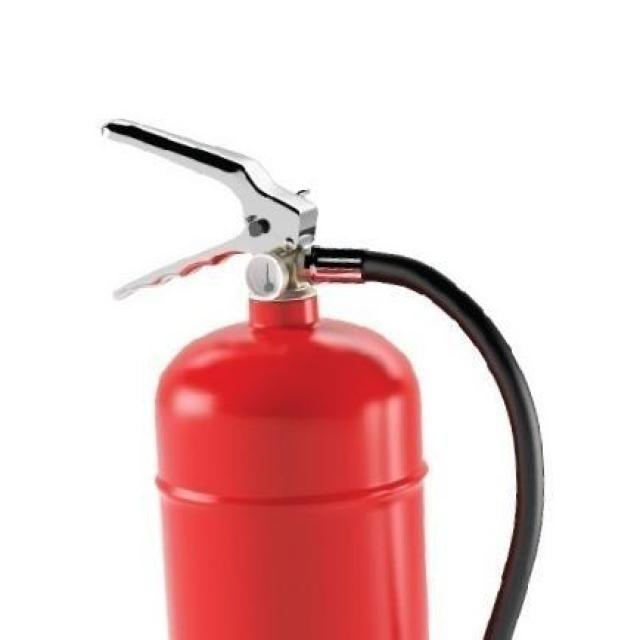fire_extinguisher: (90, 111, 550, 638)
